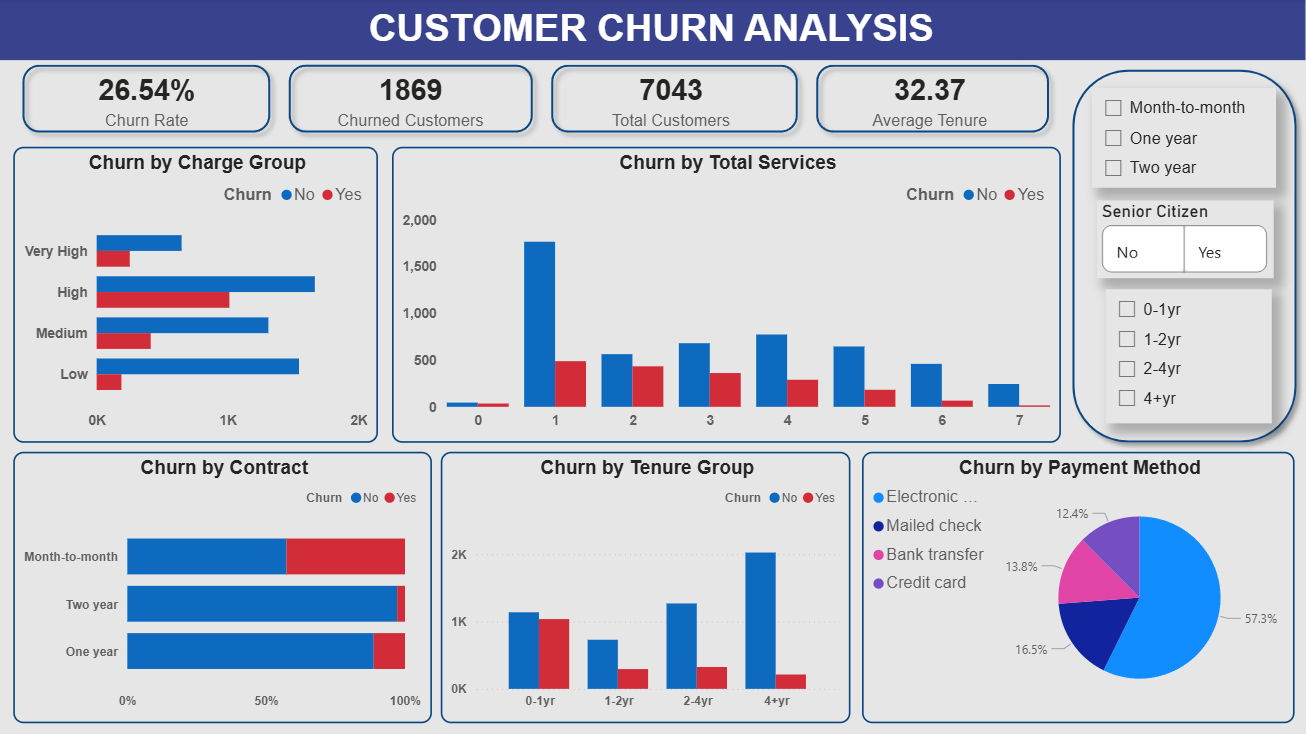

Layout of this report page (visuals, bound fields, positions):
{"tool":"powerbi","page":{"name":"Page 1","canvas":[1280,720],"ordinal":0},"visuals":[{"type":"card","fields":{"Values":["Avg(Customer_churn_cleaned.tenure)"]},"box":[823,61.1,179.8,74.6],"z":0},{"type":"card","fields":{"Values":["CountNonNull(Customer_churn_cleaned.customer_id)"]},"box":[574.7,61.1,170,74.6],"z":1000},{"type":"card","fields":{"Values":["Customer_churn_cleaned.Churned Customers"]},"box":[322.8,61.1,163.9,74.6],"z":2000},{"type":"card","fields":{"Values":["Customer_churn_cleaned.Churn Rate"]},"box":[58.7,61.1,176.1,74.6],"z":3000},{"type":"shape","box":[792.4,56.3,245.8,84.4],"z":4000},{"type":"shape","box":[533.2,56.3,259.2,84.4],"z":5000},{"type":"shape","box":[15.9,56.3,260.5,84.4],"z":6000},{"type":"shape","box":[276.4,56.3,256.8,84.4],"z":7000},{"type":"shape","box":[1043.1,61.1,237.2,382.7],"z":8000},{"type":"hundredPercentStackedBarChart","title":"Churn by Contract","fields":{"Series":["Customer_churn_cleaned.churn"],"Category":["Customer_churn_cleaned.contract"],"Y":["CountNonNull(Customer_churn_cleaned.churn)"]},"box":[15.9,443.9,409.6,265.4],"z":9000},{"type":"clusteredColumnChart","title":"Churn by Tenure Group","fields":{"Category":["Customer_churn_cleaned.tenure_group"],"Series":["Customer_churn_cleaned.churn"],"Y":["CountNonNull(Customer_churn_cleaned.churn)"]},"box":[434.1,443.9,401.1,265.4],"z":10000},{"type":"clusteredBarChart","title":"Churn by Charge Group","fields":{"Category":["Customer_churn_cleaned.charges_group"],"Series":["Customer_churn_cleaned.churn"],"Y":["CountNonNull(Customer_churn_cleaned.churn)"]},"box":[15.9,145.5,357.1,289.8],"z":11000},{"type":"clusteredColumnChart","title":"Churn by Total Services","fields":{"Category":["Customer_churn_cleaned.total_services"],"Series":["Customer_churn_cleaned.churn"],"Y":["CountNonNull(Customer_churn_cleaned.churn)"]},"box":[386.4,145.5,654.2,289.8],"z":12000},{"type":"slicer","fields":{"Values":["Customer_churn_cleaned.contract"]},"box":[1071.2,88,179.8,97.8],"z":13000},{"type":"advancedSlicerVisual","fields":{"Values":["Customer_churn_cleaned.senior_citizen"]},"box":[1076.1,198.1,172.4,75.8],"z":14000},{"type":"slicer","fields":{"Values":["Customer_churn_cleaned.tenure_group"]},"box":[1084.7,284.9,162.6,130.8],"z":15000},{"type":"pieChart","title":"Churn by Payment Method","fields":{"Y":["Customer_churn_cleaned.Churned Customers"],"Category":["Customer_churn_cleaned.payment_method"]},"box":[846.2,443.9,423.1,265.4],"z":16000},{"type":"textbox","box":[0,0,1280.3,61.1],"z":17000}]}

Visuals, with their boxes in screenshot pixels (x1, y1, x2, y2), scaled from the page's 1280x720 canvas onto the 1306x734 screenshot:
card - Avg(Customer_churn_cleaned.tenure): (x1=840, y1=62, x2=1023, y2=138)
card - CountNonNull(Customer_churn_cleaned.customer_id): (x1=586, y1=62, x2=760, y2=138)
card - Customer_churn_cleaned.Churned Customers: (x1=329, y1=62, x2=497, y2=138)
card - Customer_churn_cleaned.Churn Rate: (x1=60, y1=62, x2=240, y2=138)
shape: (x1=808, y1=57, x2=1059, y2=143)
shape: (x1=544, y1=57, x2=808, y2=143)
shape: (x1=16, y1=57, x2=282, y2=143)
shape: (x1=282, y1=57, x2=544, y2=143)
shape: (x1=1064, y1=62, x2=1305, y2=452)
"Churn by Contract" hundredPercentStackedBarChart: (x1=16, y1=453, x2=434, y2=723)
"Churn by Tenure Group" clusteredColumnChart: (x1=443, y1=453, x2=852, y2=723)
"Churn by Charge Group" clusteredBarChart: (x1=16, y1=148, x2=381, y2=444)
"Churn by Total Services" clusteredColumnChart: (x1=394, y1=148, x2=1062, y2=444)
slicer - Customer_churn_cleaned.contract: (x1=1093, y1=90, x2=1276, y2=189)
advancedSlicerVisual - Customer_churn_cleaned.senior_citizen: (x1=1098, y1=202, x2=1274, y2=279)
slicer - Customer_churn_cleaned.tenure_group: (x1=1107, y1=290, x2=1273, y2=424)
"Churn by Payment Method" pieChart: (x1=863, y1=453, x2=1295, y2=723)
textbox: (x1=0, y1=0, x2=1305, y2=62)
